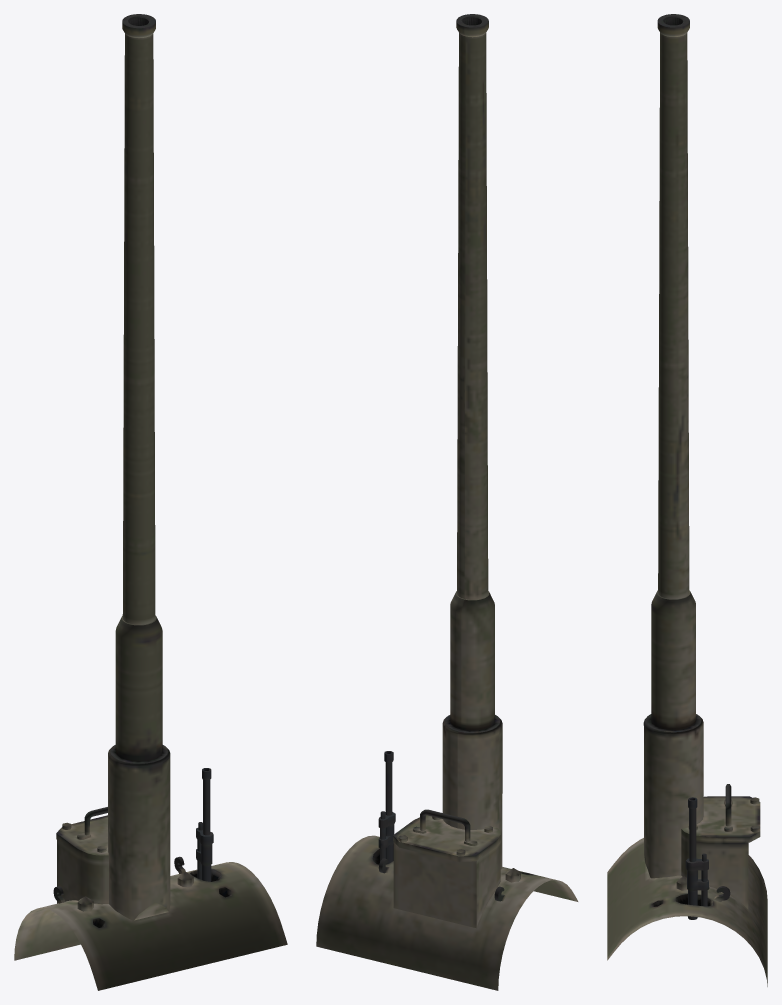
File: Gun_05.glb
The picture shows the model from 3 angles, left to right: view 1: azimuth 30°, elevation 25°; view 2: azimuth 150°, elevation 25°; view 3: azimuth 270°, elevation 25°; orthographic projection. The views are drawn at different scales.
Visible parts, largest first — view 1: set_0_group_0; view 2: set_0_group_0; view 3: set_0_group_0.
Boxes of the visible parts, x1=… form: set_0_group_0: x1=14, y1=14, x2=287, y2=990; set_0_group_0: x1=316, y1=14, x2=578, y2=990; set_0_group_0: x1=607, y1=14, x2=767, y2=986.
Size of the model in its own units: 0.4919 by 2.37 by 0.3764.
Materials: 1 (1 with a texture image).
